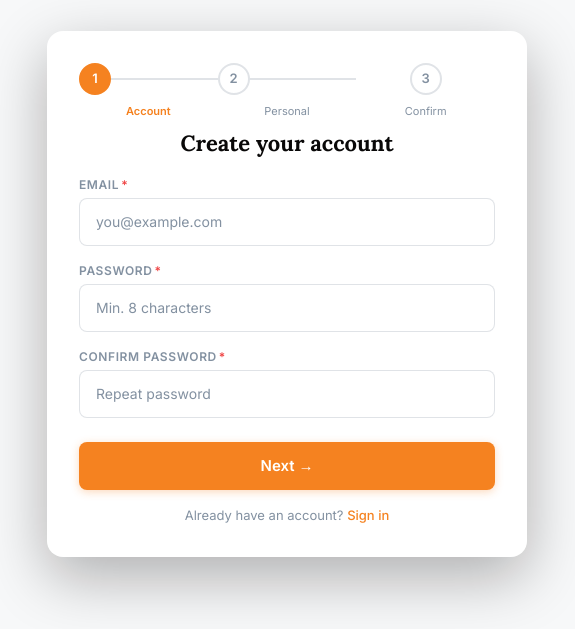
Scenario: Register component › advances to step 2 with valid step 1 data
The image size is (575, 629).
Type "a@b.com" into the field with placeholder "you@example.com" at (287, 222), box [79,198,495,246]
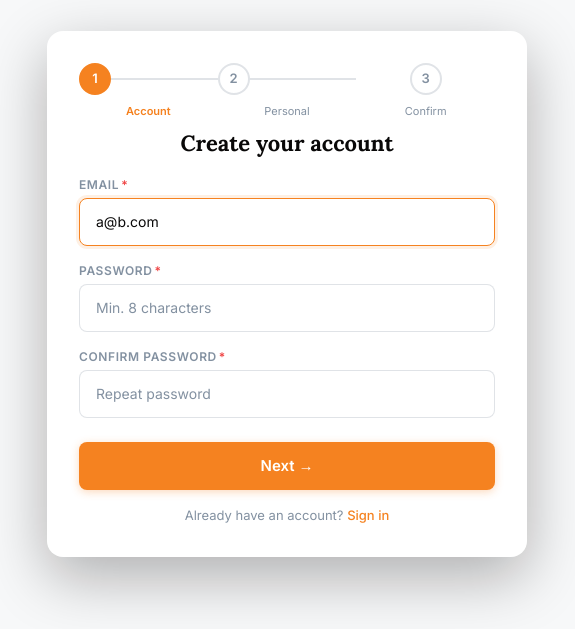
Type "Password1" into the password field with placeholder "Min. 8 characters" at (287, 308), box [79,284,495,332]
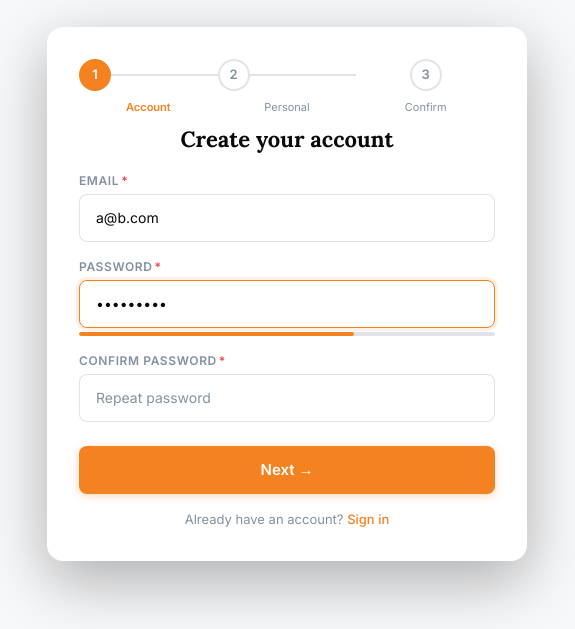
Type "Password1" into the password field with placeholder "Repeat password" at (287, 398), box [79,374,495,422]
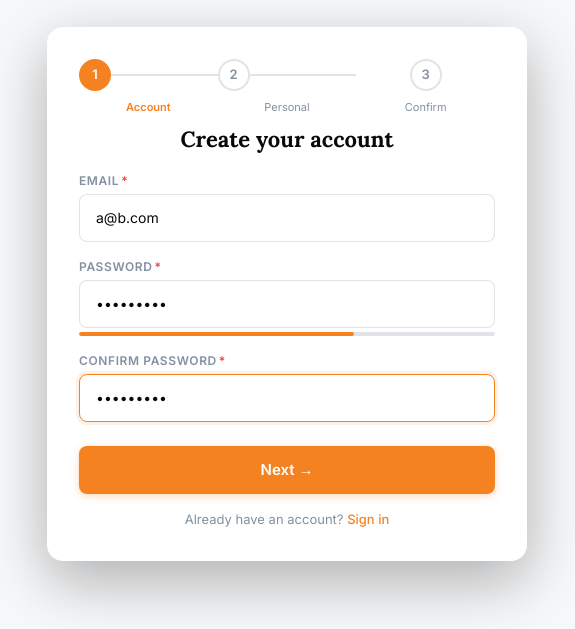
Click the button "Next →" at (287, 470), box [79,446,495,494]
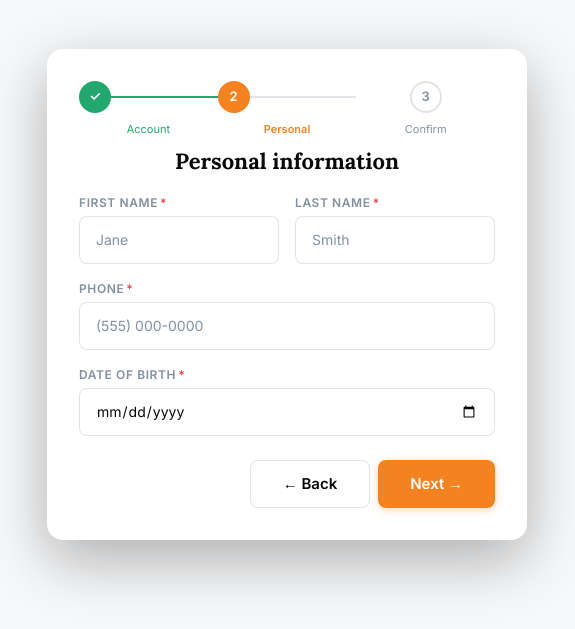
Expected: the heading "Personal information" is shown, [175,146,399,174]
